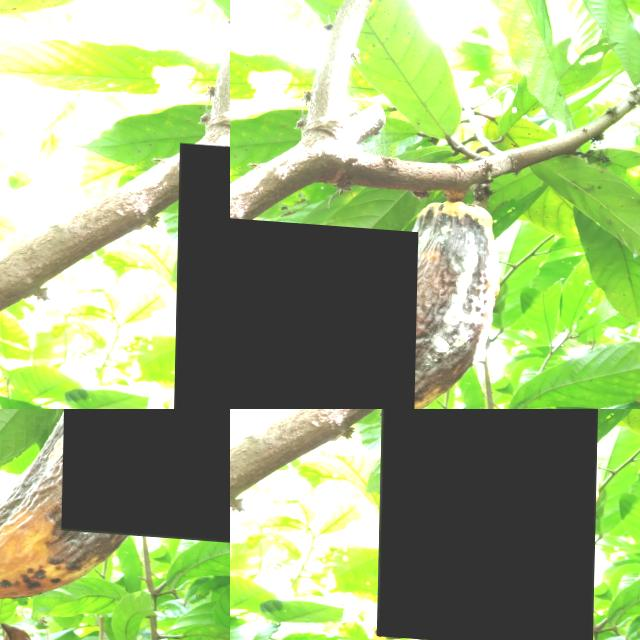Fitoftora: (175, 140, 230, 409)
Monilia: (378, 409, 599, 640), (230, 215, 419, 409)
Sana: (63, 409, 230, 535), (230, 73, 244, 117), (391, 65, 402, 86)
